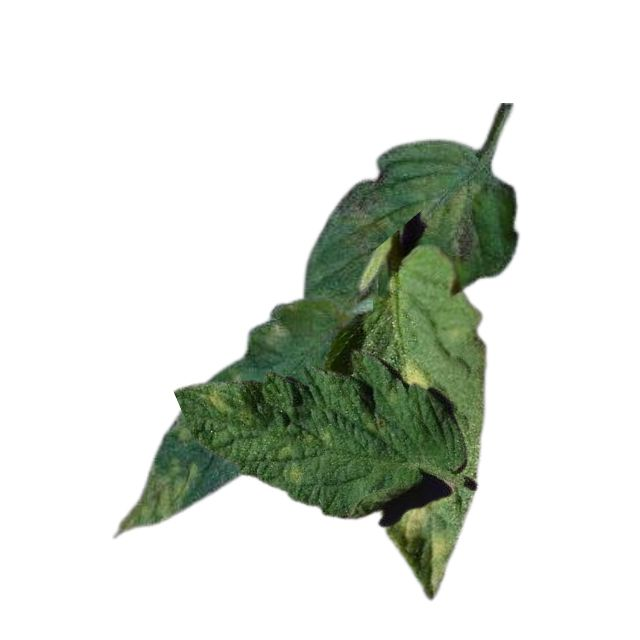Leaf_Mold: (114, 459, 198, 539), (424, 181, 483, 268), (429, 530, 453, 591), (400, 355, 432, 391), (201, 385, 234, 417), (398, 501, 425, 538), (275, 461, 306, 487)
